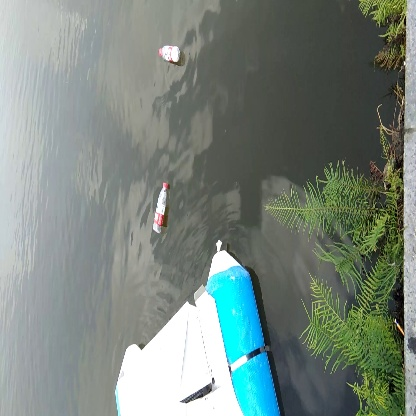bottle: (151, 180, 171, 236), (155, 41, 183, 65)
